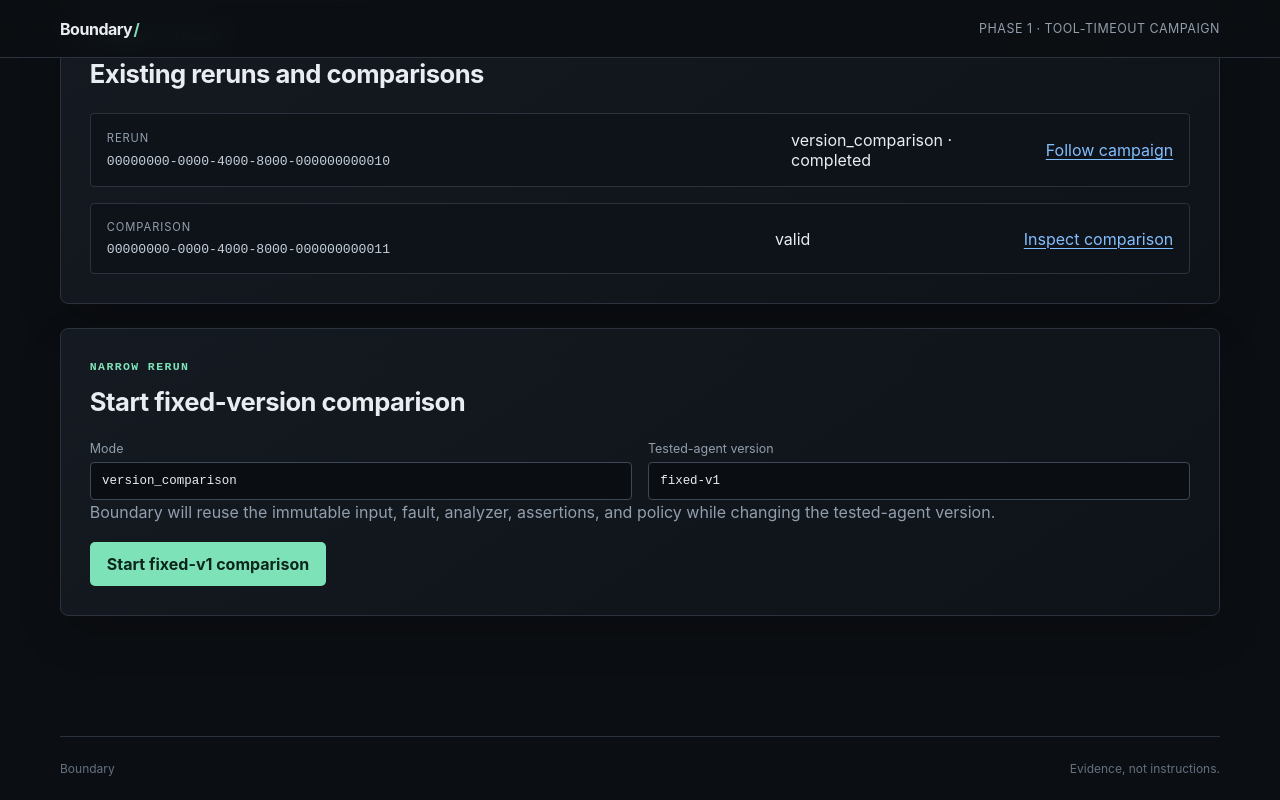
Test case: regression provenance and rerun › shows immutable provenance and submits the fixed-v1 comparison with a fresh key
(page scrolled)
Expected: the field showing "version_comparison" is shown, [90, 462, 632, 500]
Expected: the field showing "fixed-v1" is shown, [648, 462, 1190, 500]
Click the button "Start fixed-v1 comparison". click: (208, 564)
box: [90, 542, 326, 586]
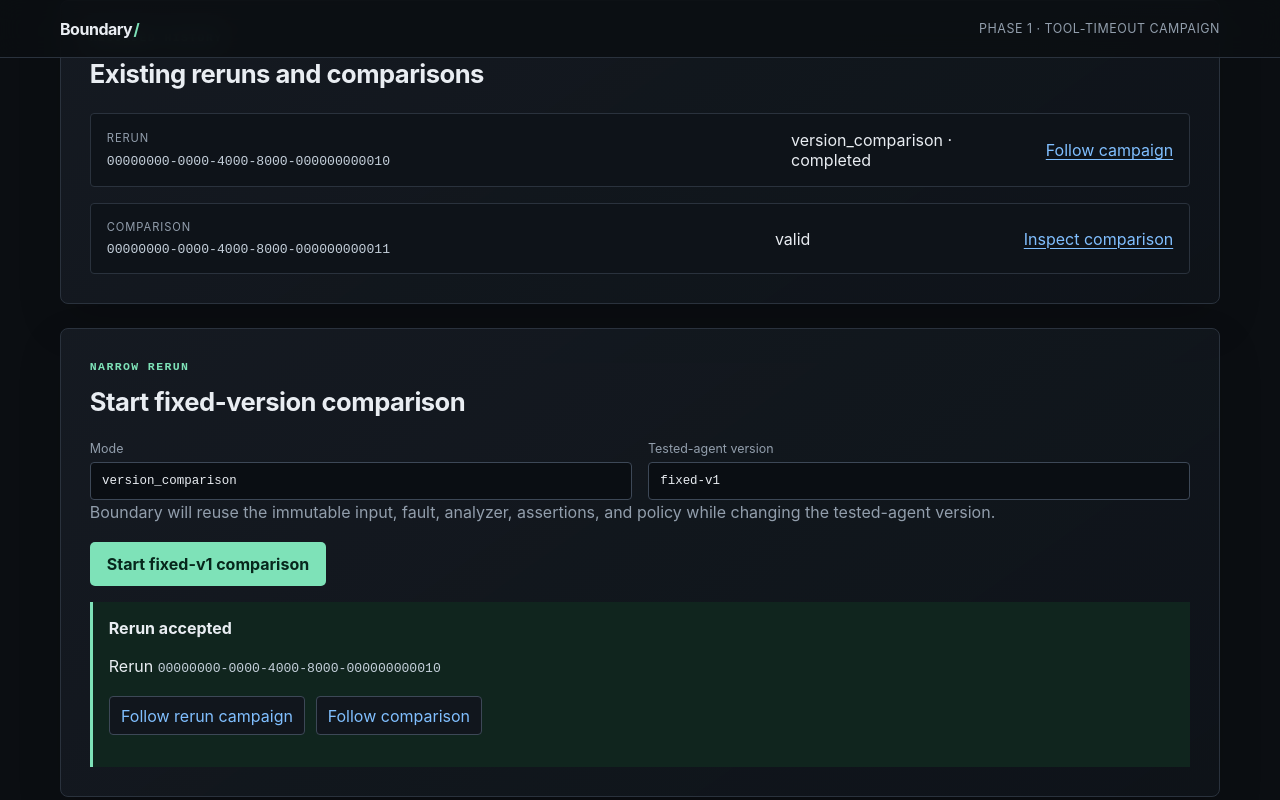
Expected: the heading "Rerun accepted" is shown, [109, 618, 232, 638]
